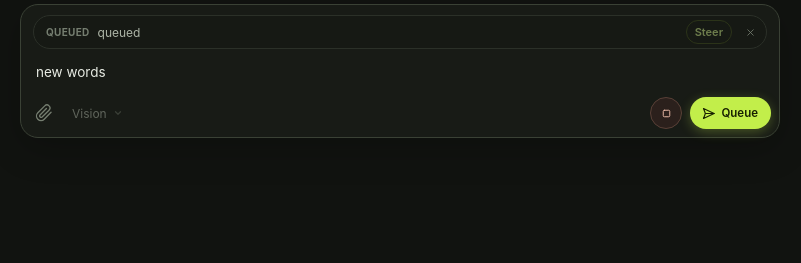
browser evidence lifecycle › restores queued images and their context mapping, alongside the current draft
The image size is (801, 263).
Click the button named "Restore queued messages to the composer".
click(750, 32)  # box [740,22,760,42]
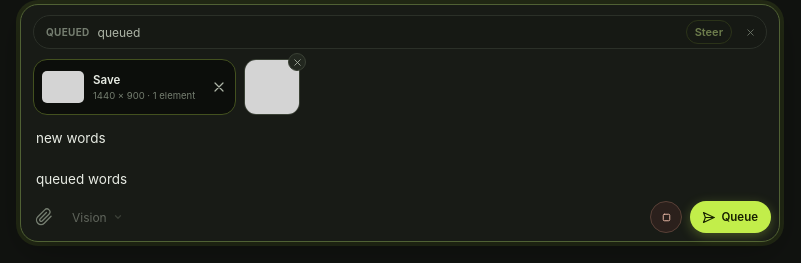
Result: the button with aria-label "Inspect Save" is shown at [34,65,203,109]
